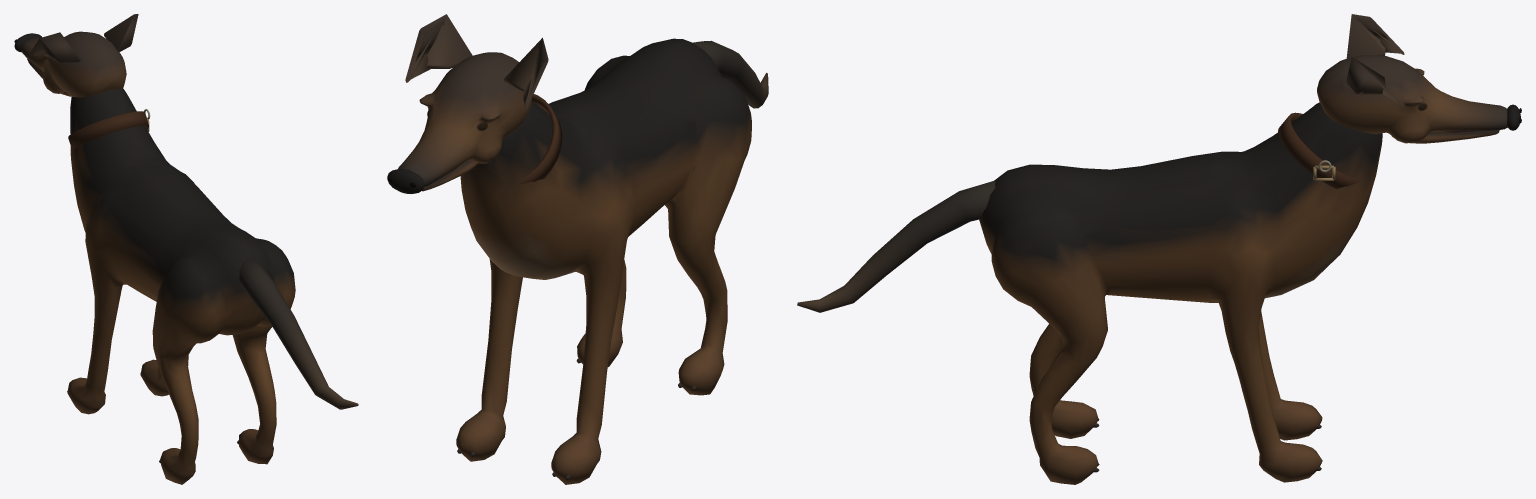
File: roadside-dog-v1.glb
3 renders of one model, left to right at view 1: azimuth 30°, elevation 25°; view 2: azimuth 150°, elevation 25°; view 3: azimuth 270°, elevation 25°, orthographic. The views are drawn at different scales.
Visible parts, largest first — view 1: DogBody, DogHeadMesh, DogTailMesh; view 2: DogBody, DogHeadMesh, DogTailMesh, DogJawMesh; view 3: DogBody, DogHeadMesh, DogTailMesh.
Boxes of the visible parts, x1,y1,x2,y2 form: DogBody: (67,88,295,484); DogHeadMesh: (14,14,138,97); DogTailMesh: (239,258,358,409); DogBody: (456,38,751,484); DogHeadMesh: (387,14,548,193); DogTailMesh: (693,40,768,108); DogJawMesh: (422,160,478,191); DogBody: (979,102,1382,484); DogHeadMesh: (1317,14,1521,143); DogTailMesh: (797,181,995,312).
Bounding box in the file's own units: 0.3081 × 0.86 × 1.34.
